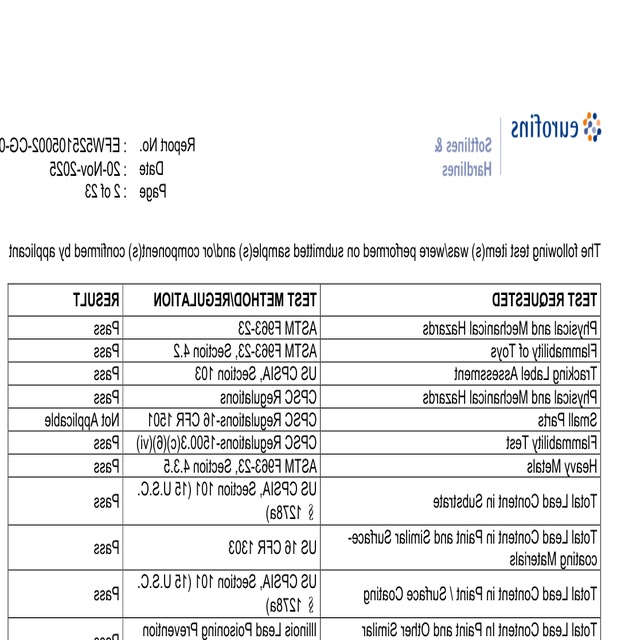eurofins: (502, 106, 606, 148)
